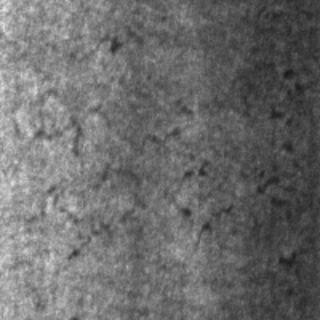crazing: (5, 84, 233, 256), (252, 37, 318, 275)
